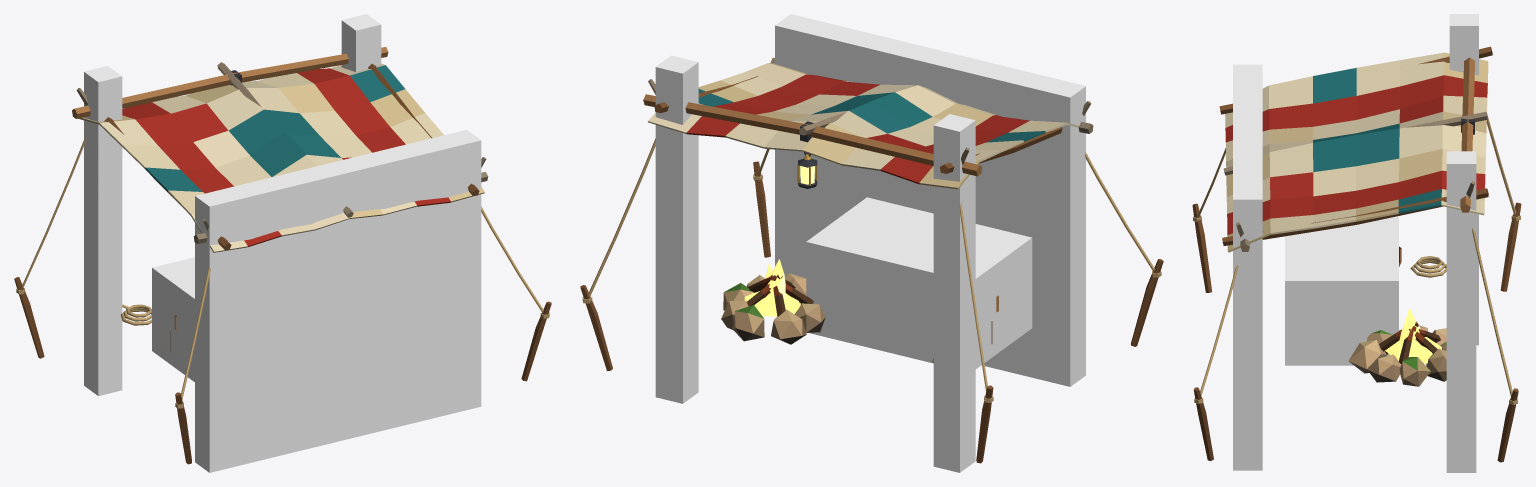
The model's file is pirate_camp_canopy.glb.
3 views of the same model, side by side, from view 1: azimuth 30°, elevation 25°; view 2: azimuth 150°, elevation 25°; view 3: azimuth 270°, elevation 25° (orthographic). The views are drawn at different scales.
Parts seen in each view (by area): view 1: col_camp_posts, PirateCampCanopy, col_camp_post_fl, col_camp_table, col_camp_post_fr; view 2: col_camp_posts, PirateCampCanopy, col_camp_table, col_camp_post_fl, col_camp_post_fr; view 3: PirateCampCanopy, col_camp_table, col_camp_posts, col_camp_post_fr, col_camp_post_fl.
Boxes of the visible parts, x1,y1,x2,y2 form: col_camp_posts: (195, 129, 481, 472); PirateCampCanopy: (14, 47, 551, 464); col_camp_post_fl: (84, 66, 122, 395); col_camp_table: (152, 257, 194, 381); col_camp_post_fr: (341, 14, 381, 71); col_camp_posts: (775, 14, 1085, 386); PirateCampCanopy: (580, 57, 1163, 463); col_camp_table: (806, 197, 1032, 369); col_camp_post_fl: (933, 114, 975, 472); col_camp_post_fr: (655, 55, 698, 403); PirateCampCanopy: (1192, 46, 1521, 462); col_camp_table: (1285, 216, 1398, 365); col_camp_posts: (1233, 64, 1262, 470); col_camp_post_fr: (1446, 151, 1476, 472); col_camp_post_fl: (1449, 14, 1478, 345).
Size of the model in its own units: 6.36 by 5.02 by 4.68.
